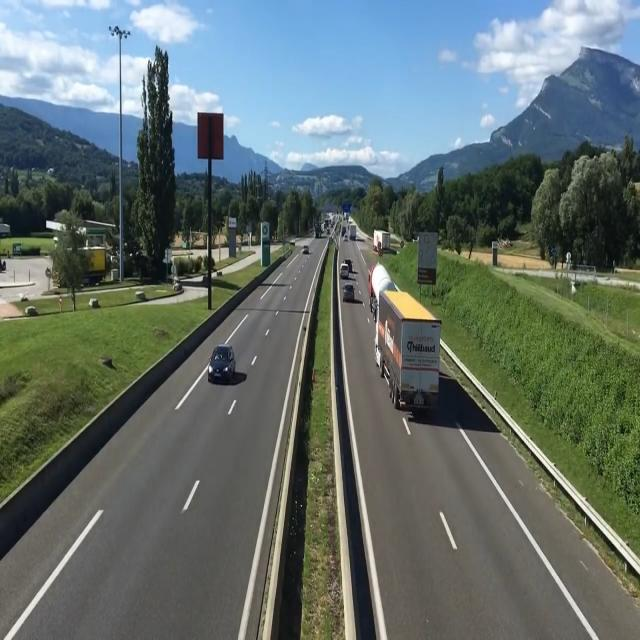car: (208, 341, 242, 389), (343, 280, 357, 308)
truck: (375, 290, 437, 420), (367, 262, 394, 292), (369, 225, 392, 252)
